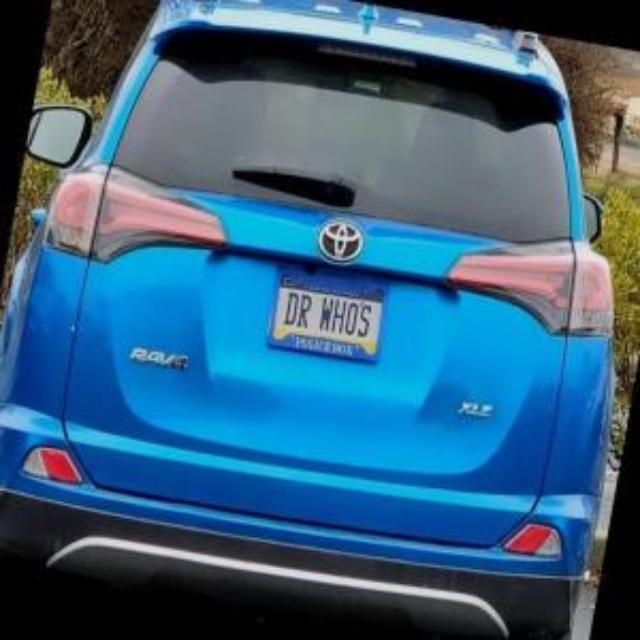License Plate: (263, 263, 392, 366)
